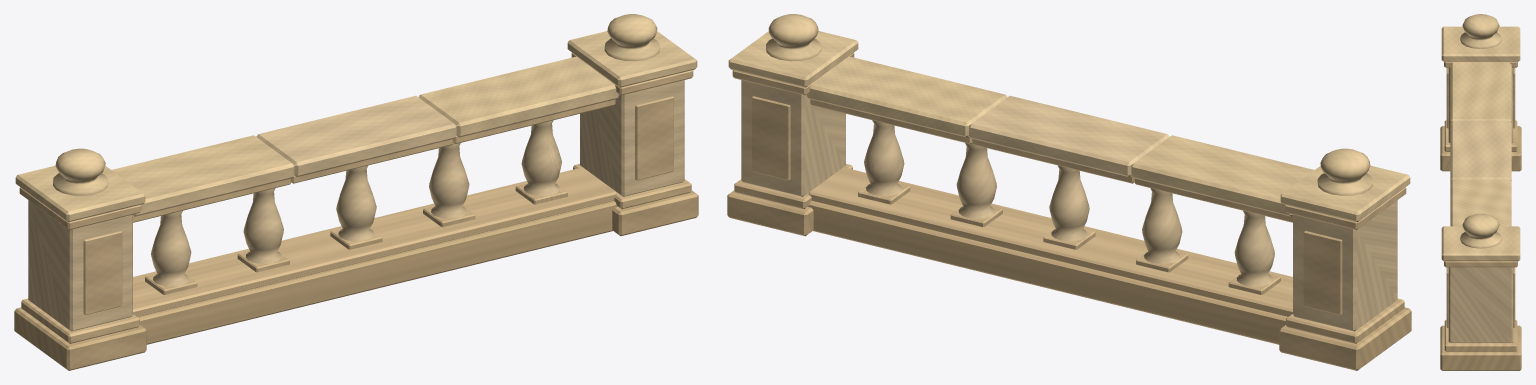
File: plaza-railing.glb
3 views of the same model, side by side, from view 1: azimuth 30°, elevation 25°; view 2: azimuth 150°, elevation 25°; view 3: azimuth 270°, elevation 25° (orthographic). The views are drawn at different scales.
Parts seen in each view (by area): view 1: Moonbay carved limestone plaza balustrade; view 2: Moonbay carved limestone plaza balustrade; view 3: Moonbay carved limestone plaza balustrade.
Part boxes in pixels (x1,y1,x2,y2): Moonbay carved limestone plaza balustrade: (14,14,698,370); Moonbay carved limestone plaza balustrade: (727,14,1411,370); Moonbay carved limestone plaza balustrade: (1440,14,1521,370).
Size of the model in its own units: 3 by 0.86 by 0.45.
1 material, 1 textured.
